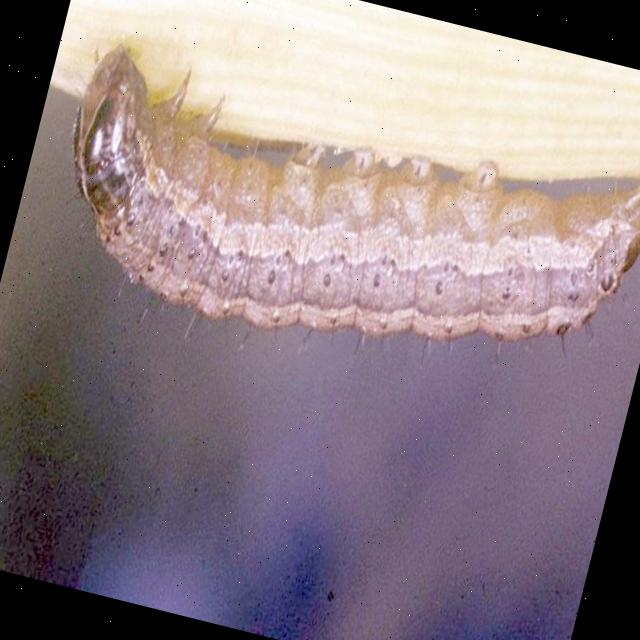worm: (34, 33, 640, 425)
